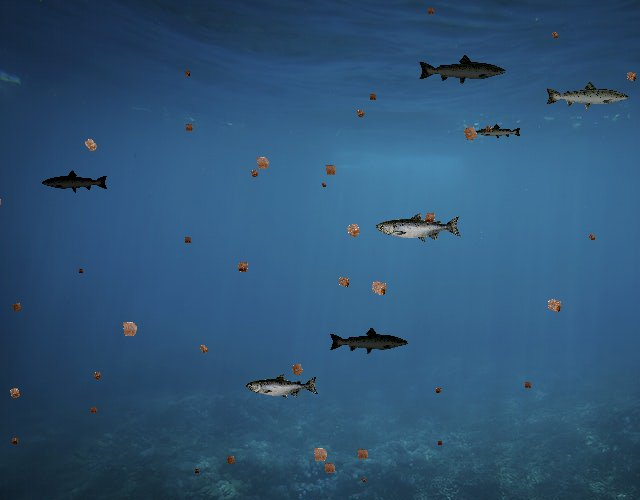Fish: (418, 54, 508, 86), (544, 80, 630, 111), (376, 212, 462, 243), (329, 327, 410, 356), (246, 373, 319, 400), (42, 170, 110, 194), (475, 123, 522, 140)
Pellet: (114, 314, 144, 344), (249, 150, 276, 177), (3, 382, 26, 404), (232, 256, 254, 278), (366, 90, 380, 104), (432, 384, 445, 397), (181, 67, 194, 80)
